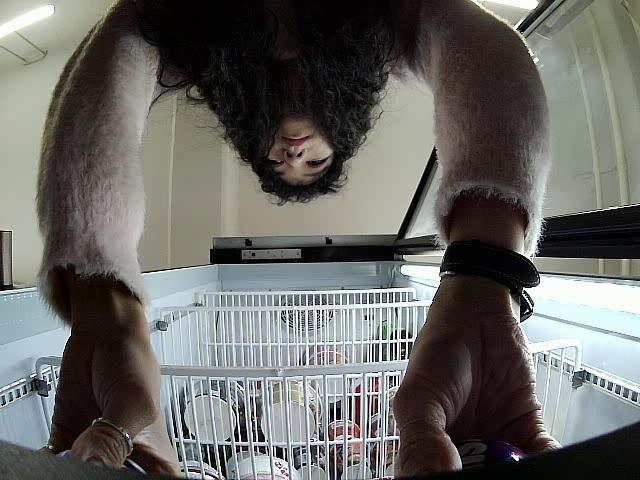14_welchsGrape: (452, 438, 530, 470)
